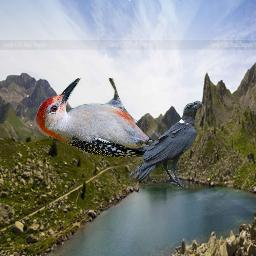Crow: (128, 100, 205, 188)
Woodpecker: (37, 78, 170, 158)
